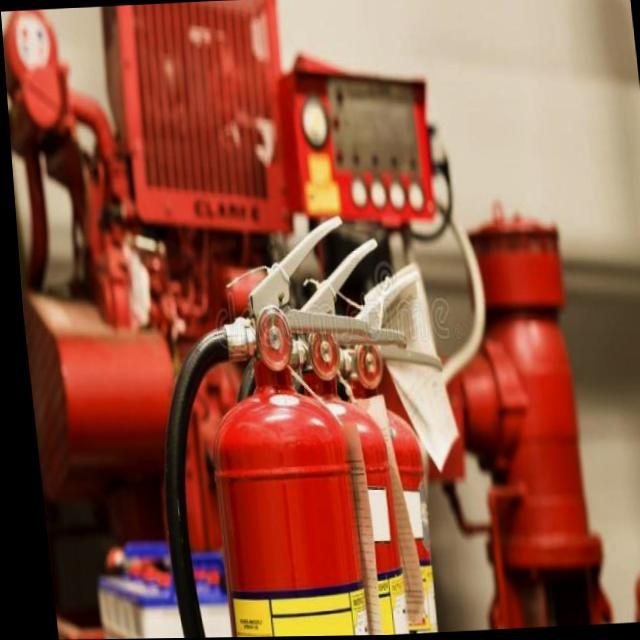FireExtinguisher: (121, 205, 396, 639), (207, 233, 430, 638), (287, 257, 463, 637)
